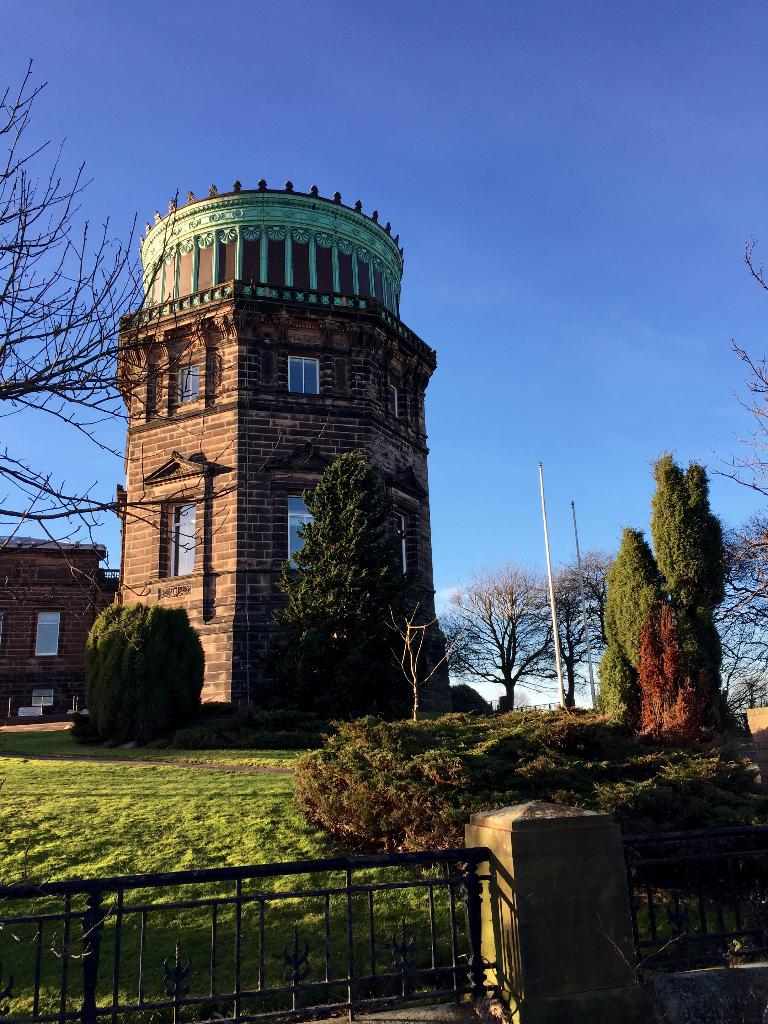Tree: (0, 48, 326, 652), (608, 429, 744, 768), (261, 454, 405, 741), (712, 242, 767, 707), (439, 559, 564, 711), (550, 533, 620, 705)
